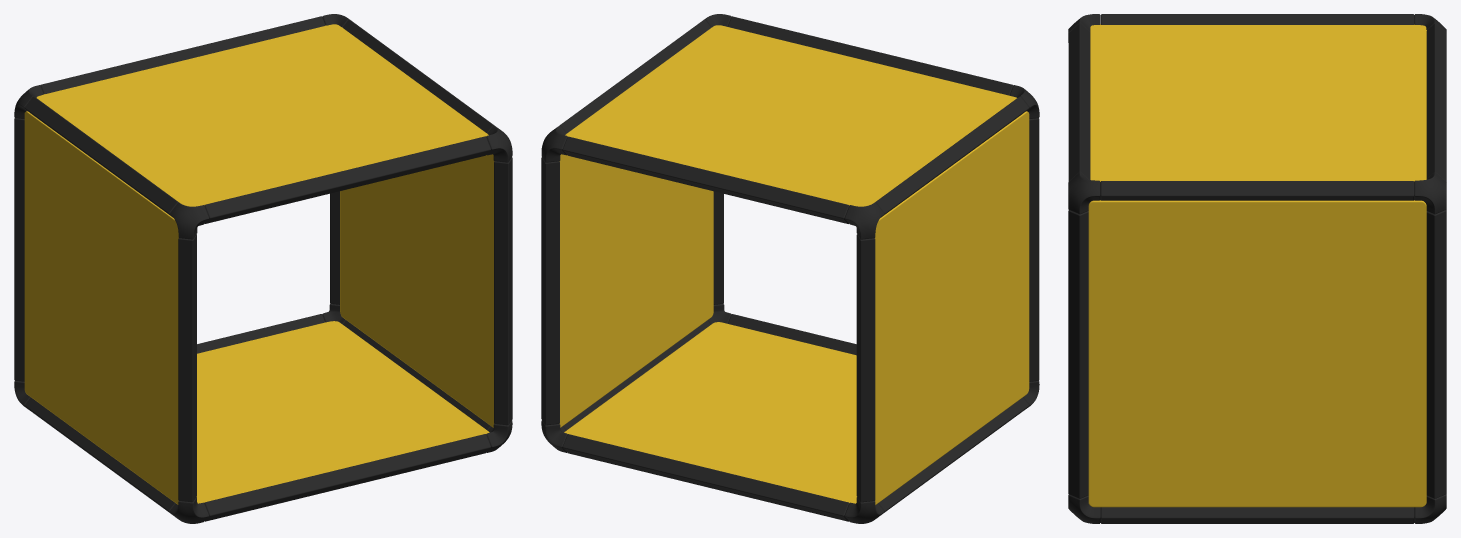
3 renders of one model, left to right at view 1: azimuth 30°, elevation 25°; view 2: azimuth 150°, elevation 25°; view 3: azimuth 270°, elevation 25°, orthographic. The views are drawn at different scales.
Visible parts, largest first — view 1: 420x374x374; view 2: 420x374x374; view 3: 420x374x374.
Part boxes in pixels (x1,y1,x2,y2): 420x374x374: (14, 14, 512, 523); 420x374x374: (541, 14, 1039, 523); 420x374x374: (1068, 14, 1446, 523).
Size of the model in its own units: 0.4977 by 0.4516 by 0.4513.
